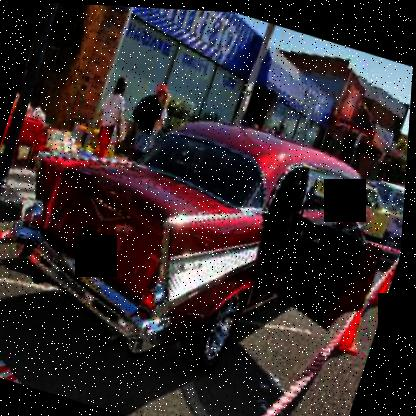not_emergency: (5, 63, 412, 407)
